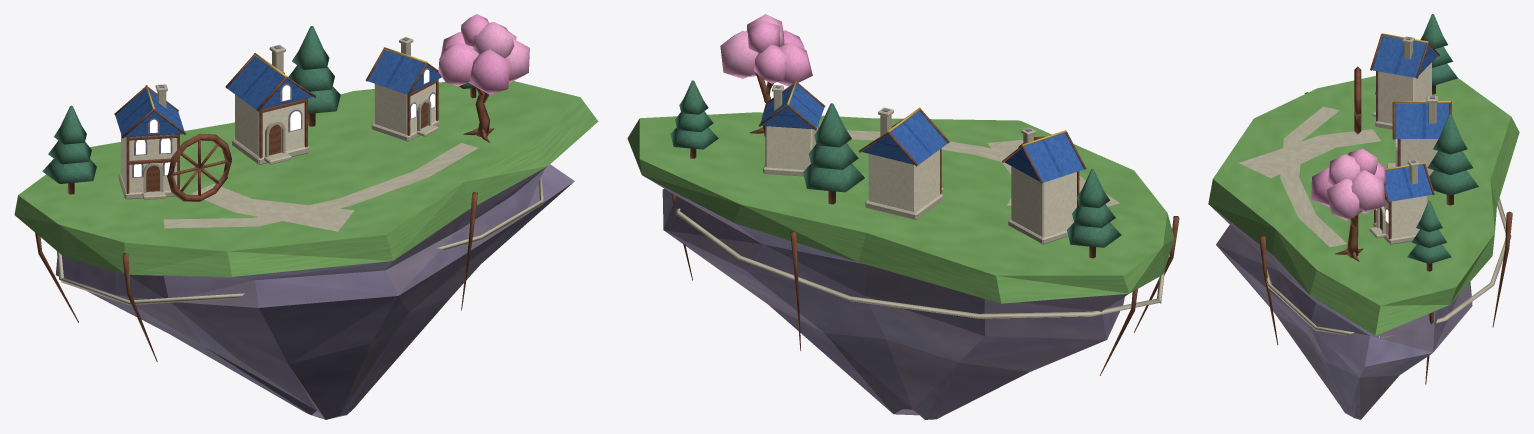
File: sky-hamlet-low.glb
3 views of the same model, side by side, from view 1: azimuth 30°, elevation 25°; view 2: azimuth 150°, elevation 25°; view 3: azimuth 270°, elevation 25° (orthographic). The views are drawn at different scales.
Visible parts, largest first — view 1: sky-hamlet; view 2: sky-hamlet; view 3: sky-hamlet.
Part boxes in pixels (left/top/right/bottom): sky-hamlet: left=14, top=14, right=598, bottom=419; sky-hamlet: left=627, top=14, right=1179, bottom=419; sky-hamlet: left=1208, top=14, right=1519, bottom=419.
Bounding box in the file's own units: 16.26 × 10.38 × 8.92.
10 materials, 10 textured.
